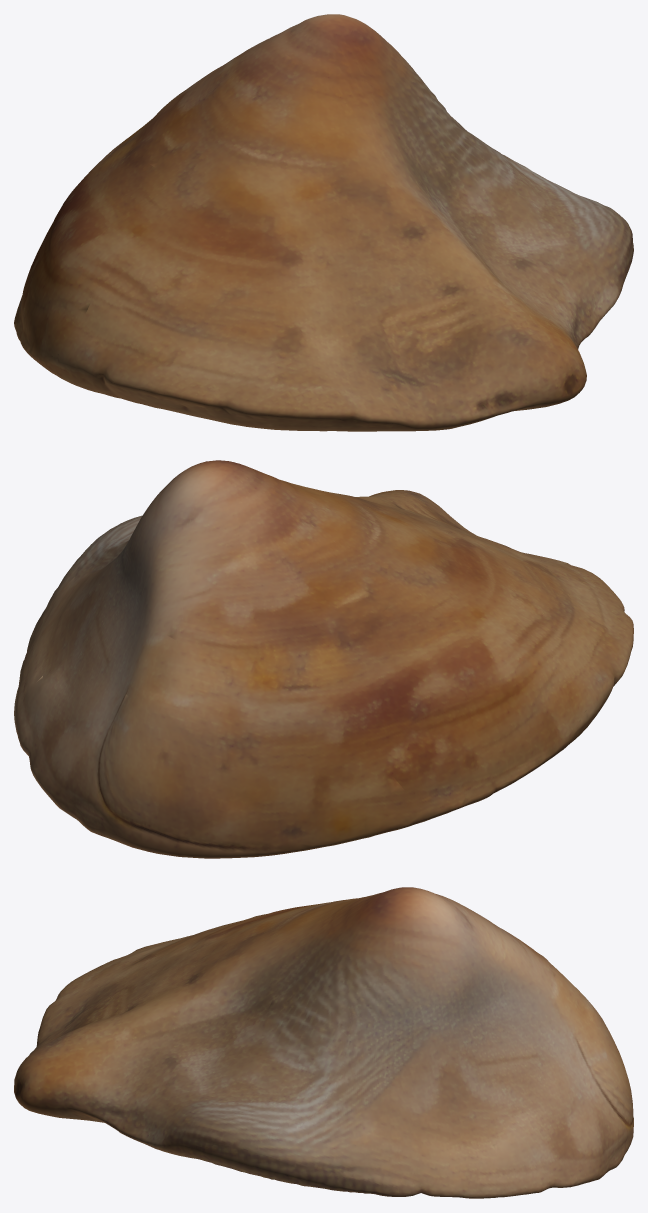
The picture shows the model from 3 angles, top to bottom: view 1: azimuth 30°, elevation 25°; view 2: azimuth 150°, elevation 25°; view 3: azimuth 270°, elevation 25°; orthographic projection. The views are drawn at different scales.
Parts seen in each view (by area): view 1: world; view 2: world; view 3: world.
Boxes of the visible parts, x1,y1,x2,y2 form: world: (14,14,633,431); world: (14,460,633,858); world: (14,887,633,1198).
Size of the model in its own units: 0.0444 by 0.0235 by 0.049.
1 material, 1 textured.
